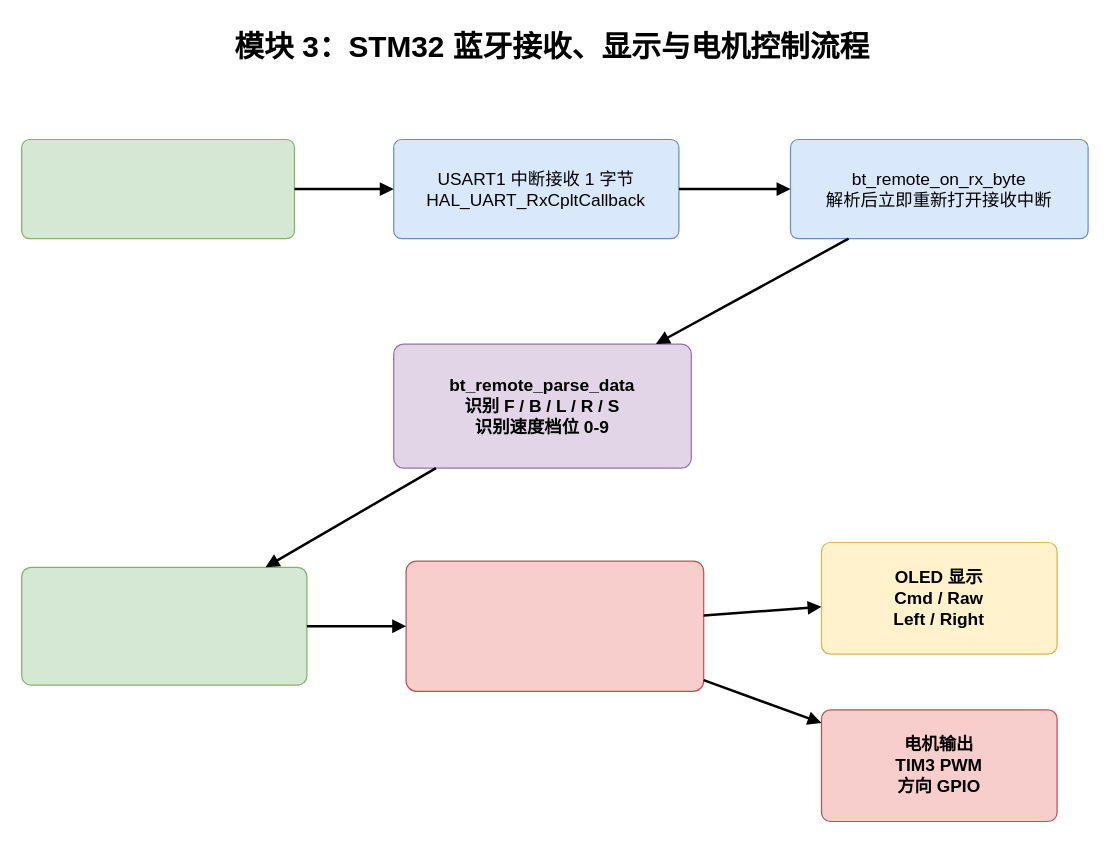
Some shapes in this 1110 by 843 pixel diagram are drawn without their labels. Each missing label, with the centre of its shape:
"bt_remote_update 计算 left_pwm / right_pwm 2 秒无新数据自动停车" goes at (554,625).
"JDY31 TXD 输出 ASCII 接入 STM32 PA10" goes at (157,188).
"更新遥控状态 Cmd / Raw / RxCount Fore / Back / Left / Right" goes at (163,625).
